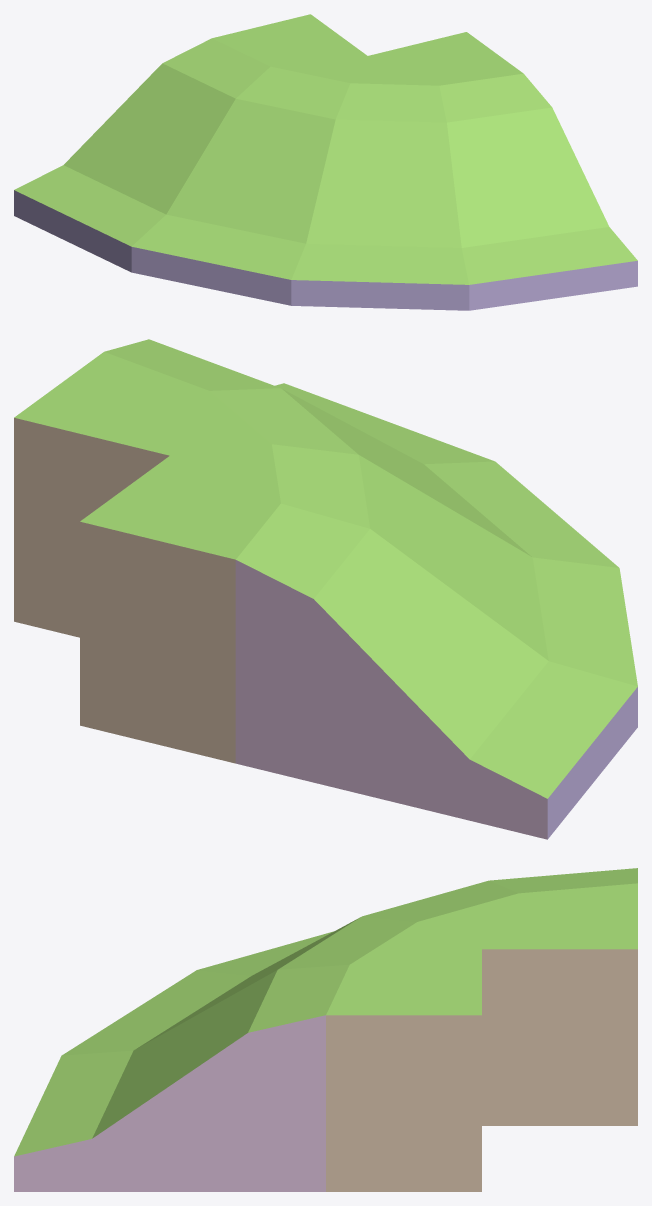
Rendered from Grass_Hill_Sharp_Curve_Outer_4x4.fbx.
3 views of the same model, one above another, from view 1: azimuth 30°, elevation 25°; view 2: azimuth 150°, elevation 25°; view 3: azimuth 270°, elevation 25° (orthographic). The views are drawn at different scales.
Visible parts, largest first — view 1: Grass_Hill_Sharp_Curve_Outer_4x4; view 2: Grass_Hill_Sharp_Curve_Outer_4x4; view 3: Grass_Hill_Sharp_Curve_Outer_4x4.
Boxes of the visible parts, bbox=[...] form: Grass_Hill_Sharp_Curve_Outer_4x4: bbox=[14, 14, 637, 310]; Grass_Hill_Sharp_Curve_Outer_4x4: bbox=[14, 339, 637, 839]; Grass_Hill_Sharp_Curve_Outer_4x4: bbox=[14, 868, 637, 1191].
Bounding box in the file's own units: 400 × 125 × 400.
